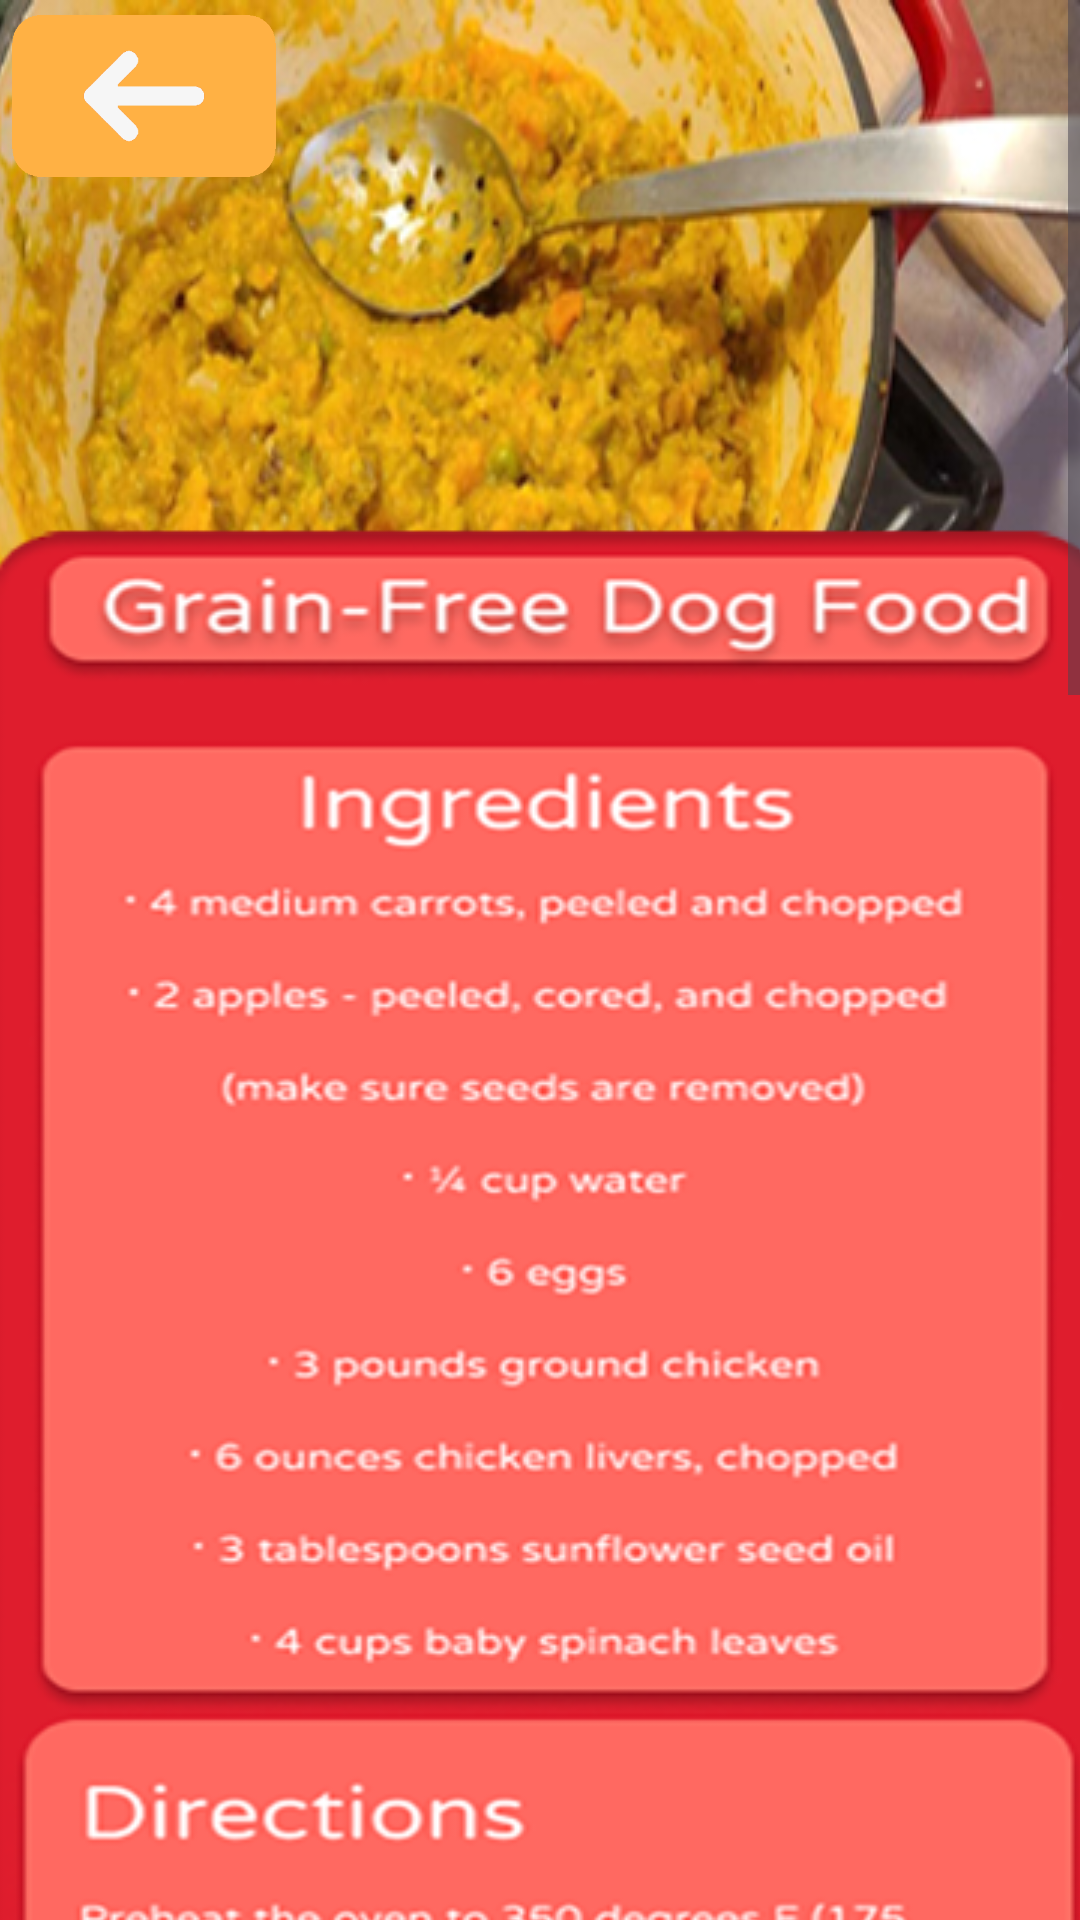

Icons on this 1080*1920 Android screen, each with the point to tap as [x,y]:
backred: [144,96]
